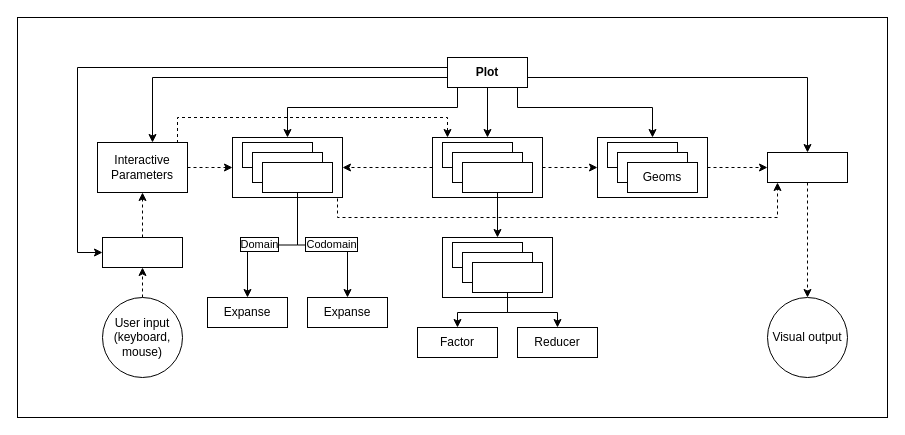
Some shapes in this 905 by 435 pixel diagram are drawn without their labels. The shapes that lost their labels are listed below. From the top down, each one's centre as x and y in pixels, then its label:
At (297,177): "Scales".
At (497,177): "Summaries".
At (807,167): "Renderer".
At (142,252): "Events".
At (507,277): "Reduceds".
